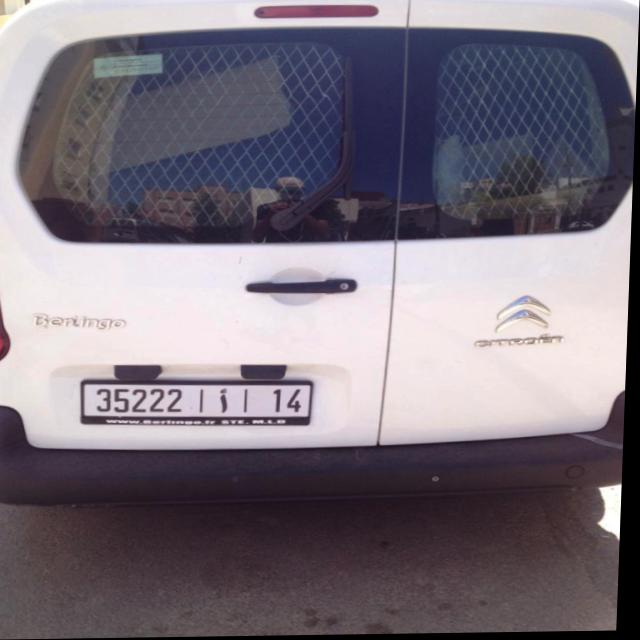License-Plate: (84, 380, 315, 426)
